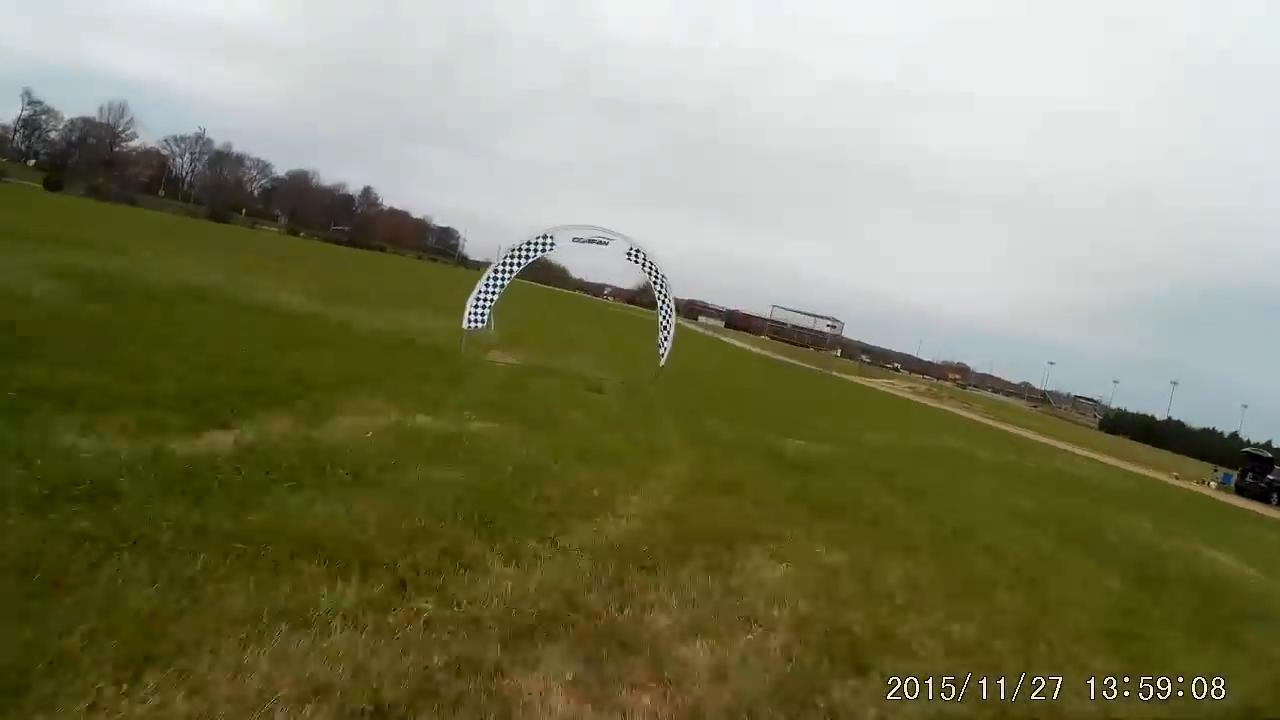gate: (461, 226, 684, 366)
